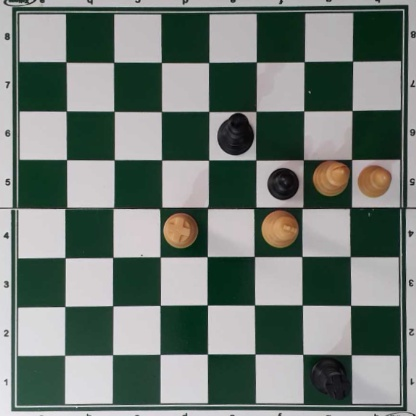black-king: (215, 112, 254, 155)
black-pawn: (267, 165, 299, 200)
black-rook: (310, 356, 351, 401)
white-bishop: (313, 159, 350, 197)
white-king: (260, 209, 299, 249)
white-pawn: (356, 165, 392, 197)
white-rook: (163, 212, 198, 248)
